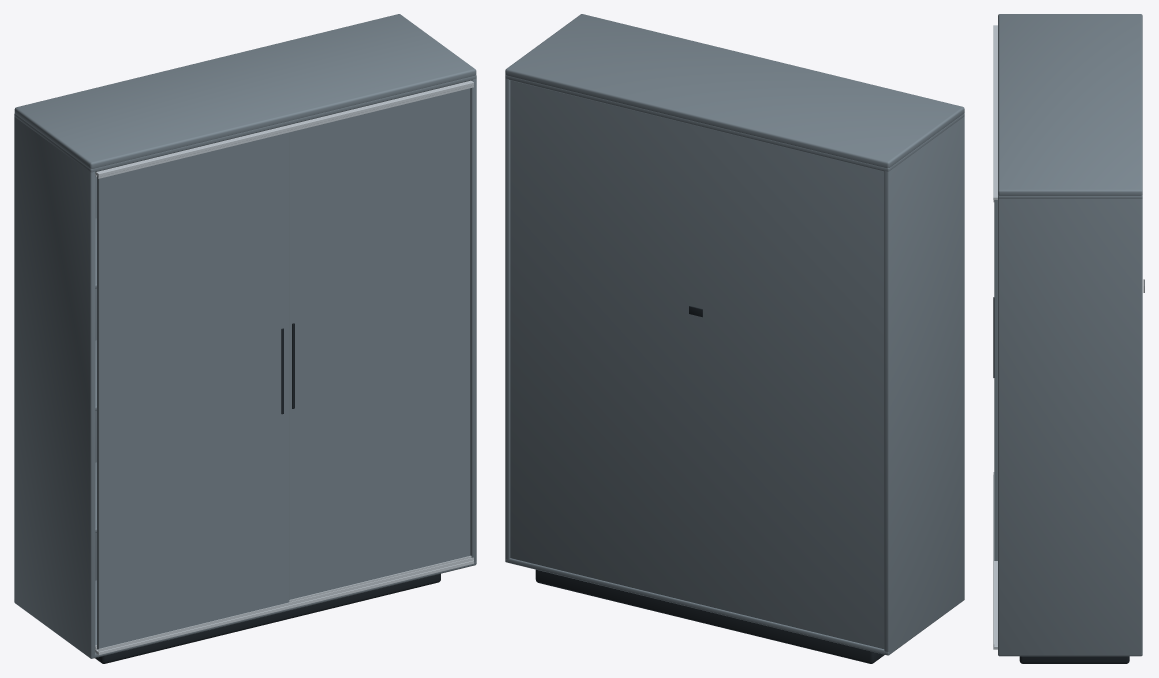
Rendered from sliding-closet.glb.
The picture shows the model from 3 angles, left to right: view 1: azimuth 30°, elevation 25°; view 2: azimuth 150°, elevation 25°; view 3: azimuth 270°, elevation 25°; orthographic projection. The views are drawn at different scales.
Visible parts, largest first — view 1: catalog_surface_RealismUV, catalog_surface_UVMap; view 2: catalog_surface_RealismUV, catalog_surface_UVMap; view 3: catalog_surface_RealismUV, catalog_surface_UVMap.
Part boxes in pixels (box(x1,y1,x2,y2)): catalog_surface_RealismUV: box(14, 14, 476, 658); catalog_surface_UVMap: box(95, 323, 440, 663); catalog_surface_RealismUV: box(505, 14, 964, 655); catalog_surface_UVMap: box(535, 306, 884, 663); catalog_surface_RealismUV: box(993, 14, 1142, 656); catalog_surface_UVMap: box(993, 279, 1144, 663).
Bounding box in the file's own units: 1.8 × 2.3 × 0.65.
